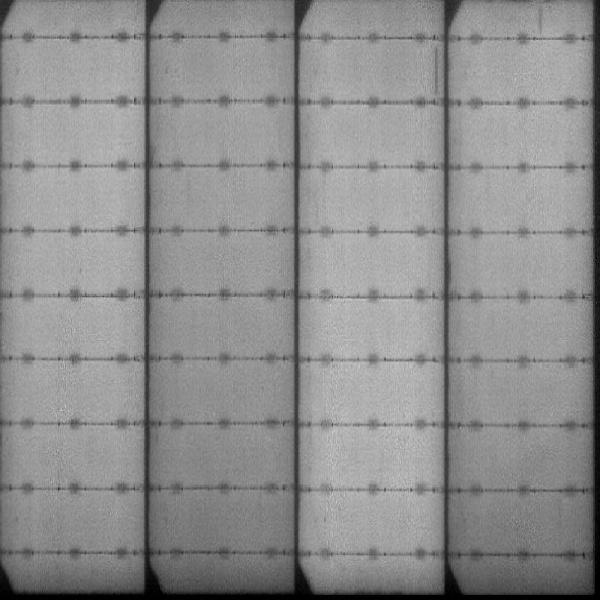scratch: (429, 44, 439, 97)
